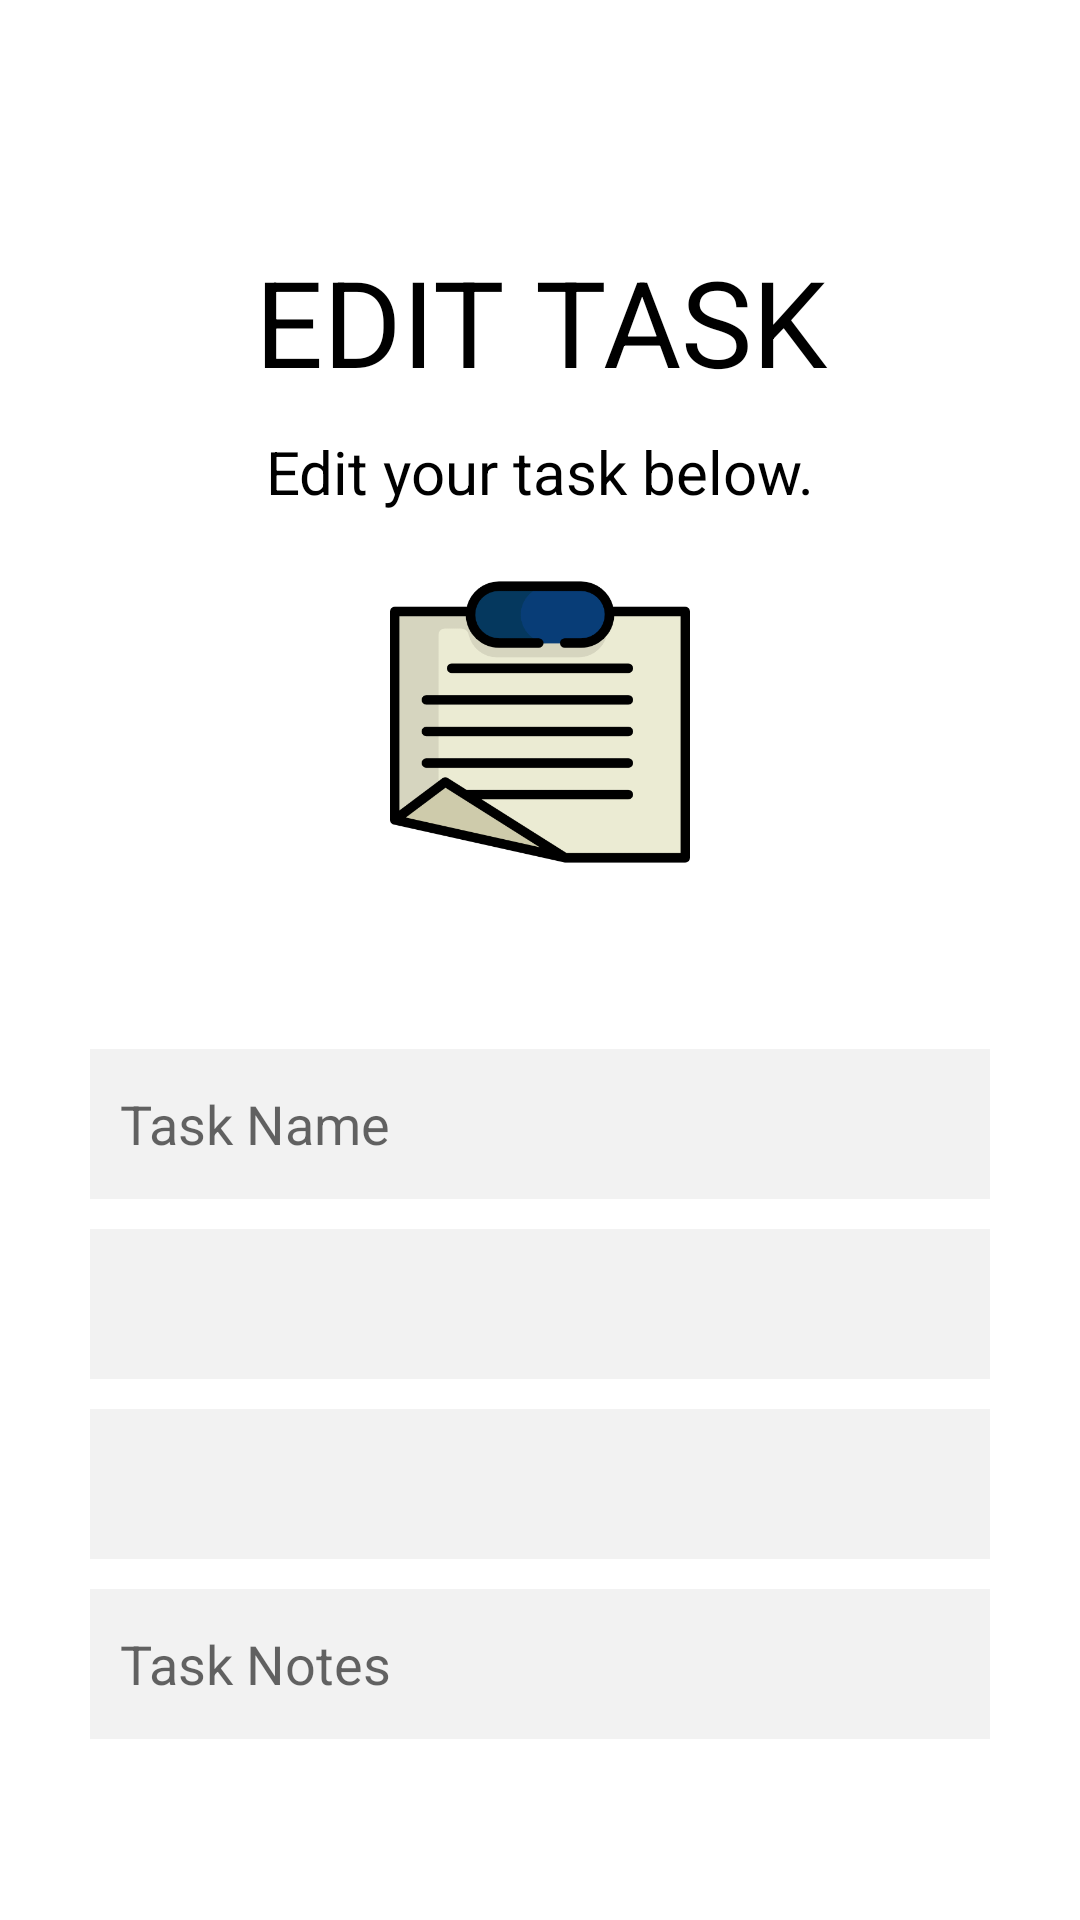

Icon click points for this 1080 × 1920 phone screenshot, format (x,y):
paper note: (540,722)
